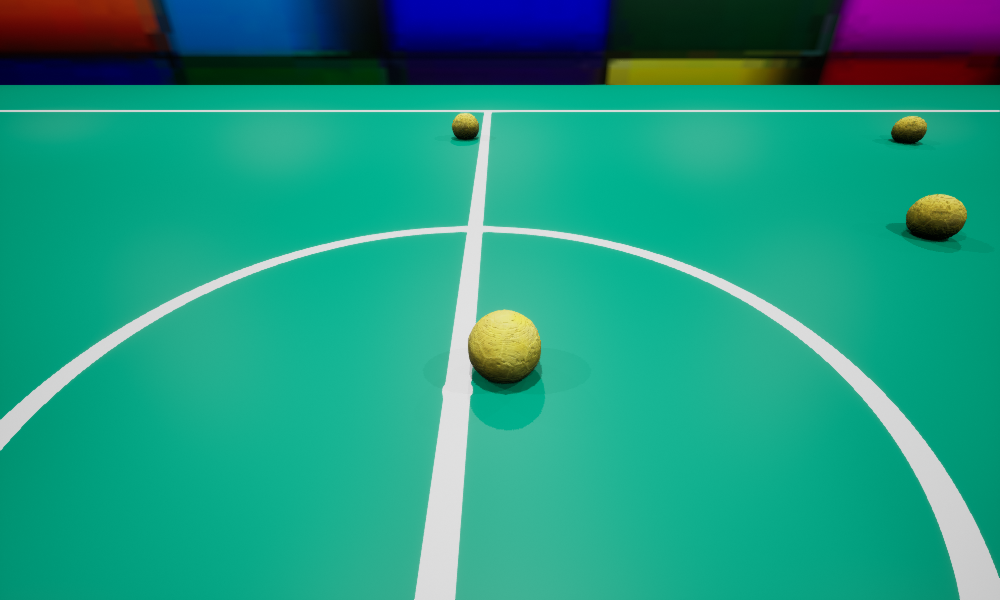b: (468, 309, 540, 382), (906, 194, 966, 239), (891, 116, 926, 143), (452, 113, 478, 139)
